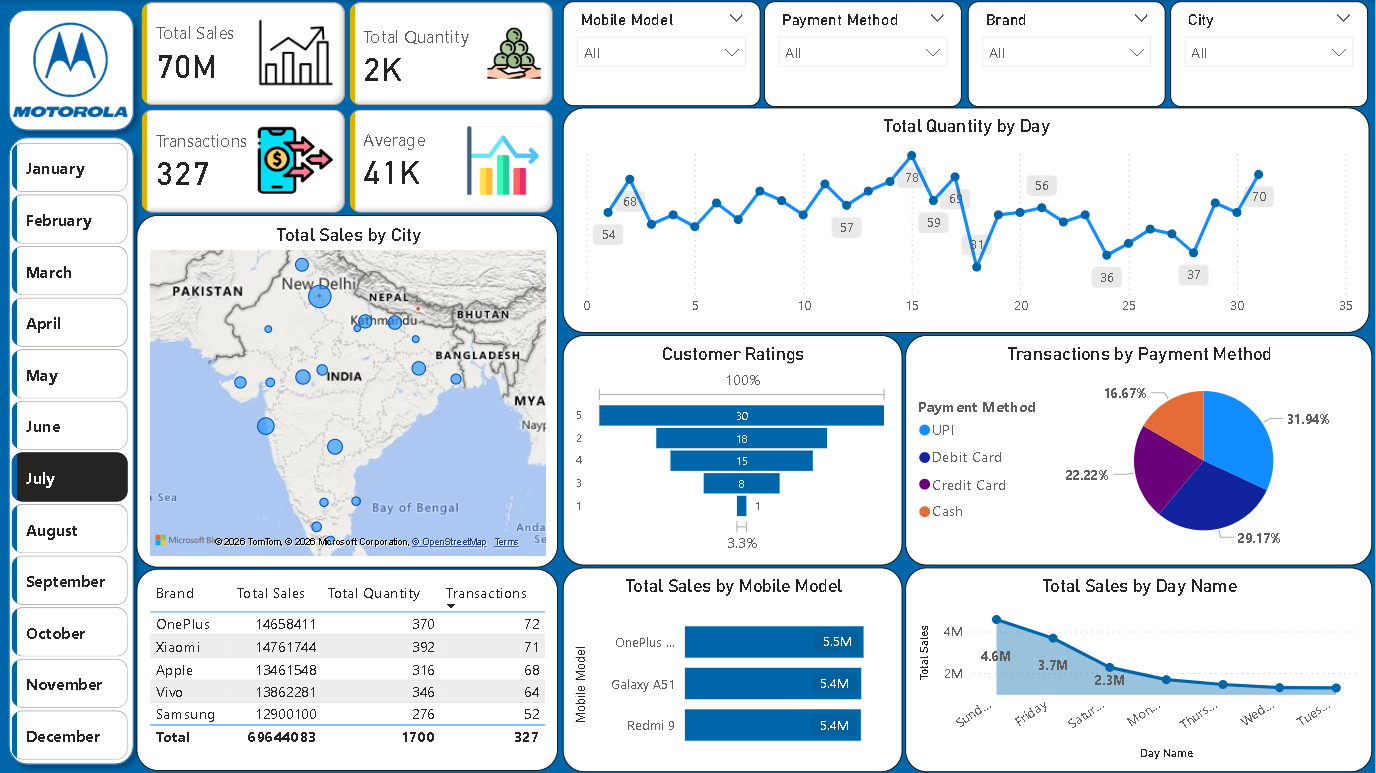

Layout of this report page (visuals, bound fields, positions):
{"tool":"powerbi","page":{"name":"Page 1","canvas":[1280,720],"ordinal":0},"visuals":[{"type":"shape","box":[0,0,134.5,130.4],"z":0},{"type":"shape","box":[0,118.4,134.4,601.6],"z":1000},{"type":"image","box":[3.7,13.4,125.6,102.4],"z":2000},{"type":"advancedSlicerVisual","fields":{"Values":["Sheet1.Date.Variation.Date Hierarchy.Month"]},"box":[7,128,118,585.9],"z":3000},{"type":"cardVisual","fields":{"Data":["Sales_Data.Total Sales","Sales_Data.Total Quantity","Sales_Data.Total Transactions","Sales_Data.Average Price"]},"box":[128,1,392,208.2],"z":4000},{"type":"map","fields":{"Category":["Sales_Data.City"],"Size":["Sales_Data.Total Sales"]},"box":[128.3,199.7,392,328],"z":5000},{"type":"lineChart","fields":{"Y":["Sales_Data.Total Quantity"],"Category":["Sales_Data.Date.Variation.Date Hierarchy.Month","Sales_Data.Date.Variation.Date Hierarchy.Day"]},"box":[524.4,100,750,209.8],"z":6000},{"type":"clusteredBarChart","fields":{"Category":["Sales_Data.Mobile Model"],"Y":["Sales_Data.Total Sales"]},"box":[524.4,528,315.9,190.2],"z":7000},{"type":"pieChart","fields":{"Category":["Sales_Data.Payment Method"],"Y":["Sales_Data.Transactions"]},"box":[842.7,312.2,434,214.6],"z":8000},{"type":"funnel","title":"Customer Ratings","fields":{"Category":["Sales_Data.Customer Ratings"],"Y":["CountNonNull(Sales_Data.Customer Ratings)"]},"box":[524.4,312.2,315.9,214.6],"z":9000},{"type":"stackedAreaChart","fields":{"Category":["Sales_Data.Day Name"],"Y":["Sales_Data.Total Sales"]},"box":[842.7,528,434,190.2],"z":10000},{"type":"tableEx","fields":{"Values":["Sales_Data.Brand","Sales_Data.Total Sales","Sales_Data.Total Quantity","Sales_Data.Transactions"]},"box":[128.3,529,392,187.6],"z":11000},{"type":"slicer","fields":{"Values":["Sales_Data.Mobile Model"]},"box":[524.4,1.2,184,97.6],"z":12000},{"type":"slicer","fields":{"Values":["Sales_Data.Payment Method"]},"box":[711.8,1,184,98.1],"z":13000},{"type":"slicer","fields":{"Values":["Sales_Data.Brand"]},"box":[900.6,1,184,98.1],"z":14000},{"type":"slicer","fields":{"Values":["Sales_Data.City"]},"box":[1089.4,1,184,98.1],"z":15000}]}

Visuals, with their boxes in screenshot pixels (x1, y1, x2, y2), scaled from the page's 1280x720 canvas onto the 1376x773 screenshot:
shape: crop(0, 0, 145, 140)
shape: crop(0, 127, 144, 772)
image: crop(4, 14, 139, 124)
advancedSlicerVisual - Sheet1.Date.Variation.Date Hierarchy.Month: crop(8, 137, 134, 766)
cardVisual - Sales_Data.Total Sales x Sales_Data.Total Quantity: crop(138, 1, 559, 225)
map - Sales_Data.City x Sales_Data.Total Sales: crop(138, 214, 559, 567)
lineChart - Sales_Data.Total Quantity x Sales_Data.Date.Variation.Date Hierarchy.Month: crop(564, 107, 1370, 333)
clusteredBarChart - Sales_Data.Mobile Model x Sales_Data.Total Sales: crop(564, 567, 903, 771)
pieChart - Sales_Data.Payment Method x Sales_Data.Transactions: crop(906, 335, 1372, 566)
"Customer Ratings" funnel: crop(564, 335, 903, 566)
stackedAreaChart - Sales_Data.Day Name x Sales_Data.Total Sales: crop(906, 567, 1372, 771)
tableEx - Sales_Data.Brand x Sales_Data.Total Sales: crop(138, 568, 559, 769)
slicer - Sales_Data.Mobile Model: crop(564, 1, 762, 106)
slicer - Sales_Data.Payment Method: crop(765, 1, 963, 106)
slicer - Sales_Data.Brand: crop(968, 1, 1166, 106)
slicer - Sales_Data.City: crop(1171, 1, 1369, 106)
